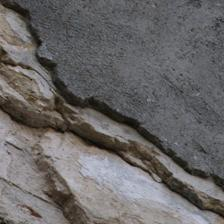Crack: (58, 64, 166, 155), (157, 116, 224, 224)
